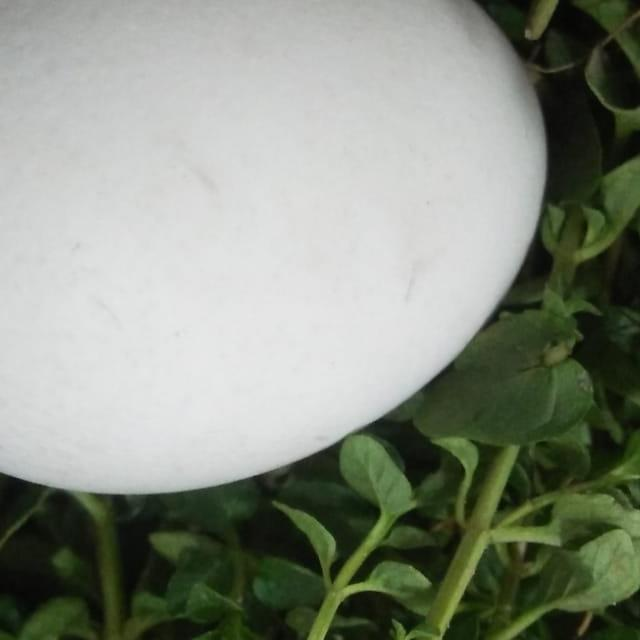egg: (0, 0, 551, 498)
